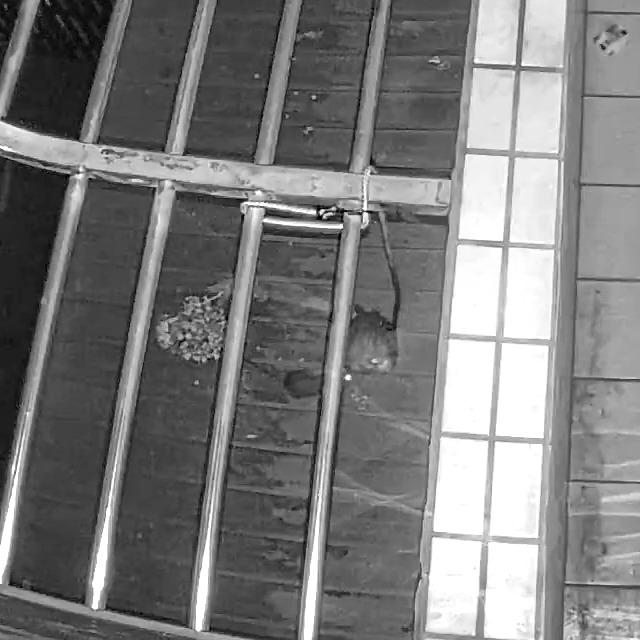rat: (243, 356, 353, 400)
